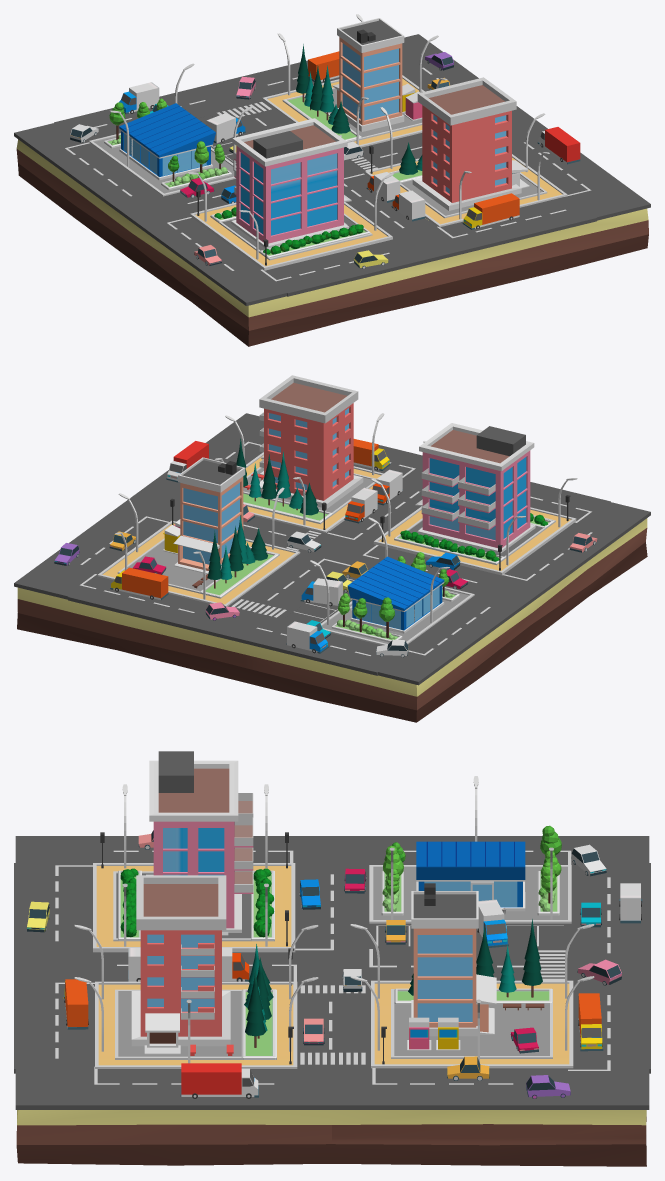
3 views of the same model, one above another, from view 1: azimuth 30°, elevation 25°; view 2: azimuth 150°, elevation 25°; view 3: azimuth 270°, elevation 25° (orthographic). The views are drawn at different scales.
Visible parts, largest first — view 1: ROAD, Floor_6, House, House_2, House_3, Shop, Floor, ROAD_Lines_12, Floor_4_4, Floor_2, Car_08_3, Floor_3 (+11 smaller); view 2: ROAD, Floor_6, House, House_2, House_3, Shop, Floor, Floor_3, ROAD_Lines_12, Floor_4_4, Floor_4_3, Car_08_5 (+14 smaller); view 3: ROAD, Floor_6, House_2, House, House_3, Shop, Floor_3, Floor_2, Floor, Floor_4_3, ROAD_Lines_12, Floor_4_4 (+25 smaller).
Boxes of the visible parts, x1,y1,x2,y2 form: ROAD: (14, 34, 650, 305); Floor_6: (16, 139, 648, 346); House: (231, 118, 351, 248); House_2: (412, 77, 529, 210); House_3: (332, 18, 404, 131); Shop: (119, 103, 215, 180); Floor: (190, 202, 392, 270); ROAD_Lines_12: (65, 67, 591, 281); Floor_4_4: (89, 133, 236, 196); Floor_2: (365, 154, 567, 227); Car_08_3: (462, 193, 519, 229); Floor_3: (262, 75, 424, 147); ROAD: (14, 413, 650, 685); Floor_6: (17, 518, 647, 722); House: (415, 423, 535, 553); House_2: (259, 375, 363, 508); House_3: (173, 457, 245, 573); Shop: (347, 556, 444, 633); Floor: (373, 506, 576, 575); Floor_3: (97, 520, 300, 606); ROAD_Lines_12: (80, 441, 592, 655); Floor_4_4: (321, 586, 474, 645); Floor_4_3: (117, 538, 279, 598); Car_08_5: (110, 567, 168, 599); ROAD: (14, 836, 650, 1109); Floor_6: (16, 1110, 646, 1166); House_2: (131, 875, 230, 1054); House: (146, 751, 253, 935); House_3: (411, 883, 496, 1036); Shop: (416, 841, 525, 911); Floor_3: (371, 980, 573, 1068); Floor_2: (95, 981, 297, 1068); Floor: (93, 863, 295, 952); Floor_4_3: (391, 989, 552, 1058); ROAD_Lines_12: (55, 850, 610, 1084); Floor_4_4: (369, 865, 571, 923).
Size of the model in its own units: 21.92 by 7.44 by 21.92.
8 materials, 8 textured.
